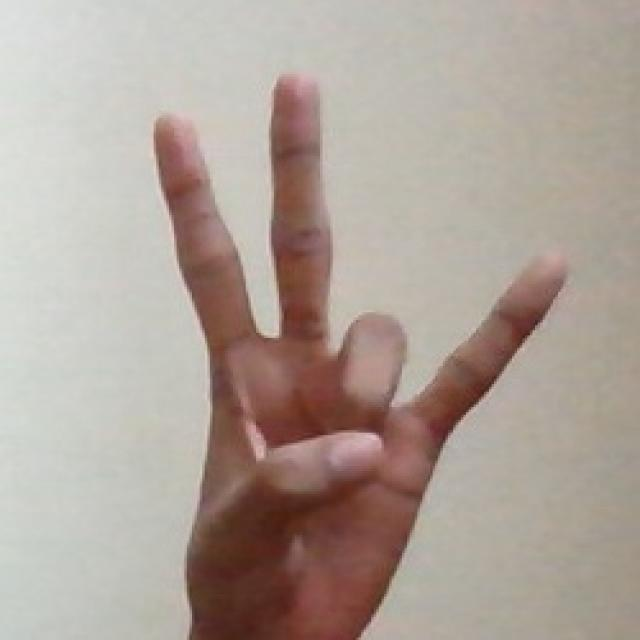Numeric-7: (148, 66, 572, 640)
